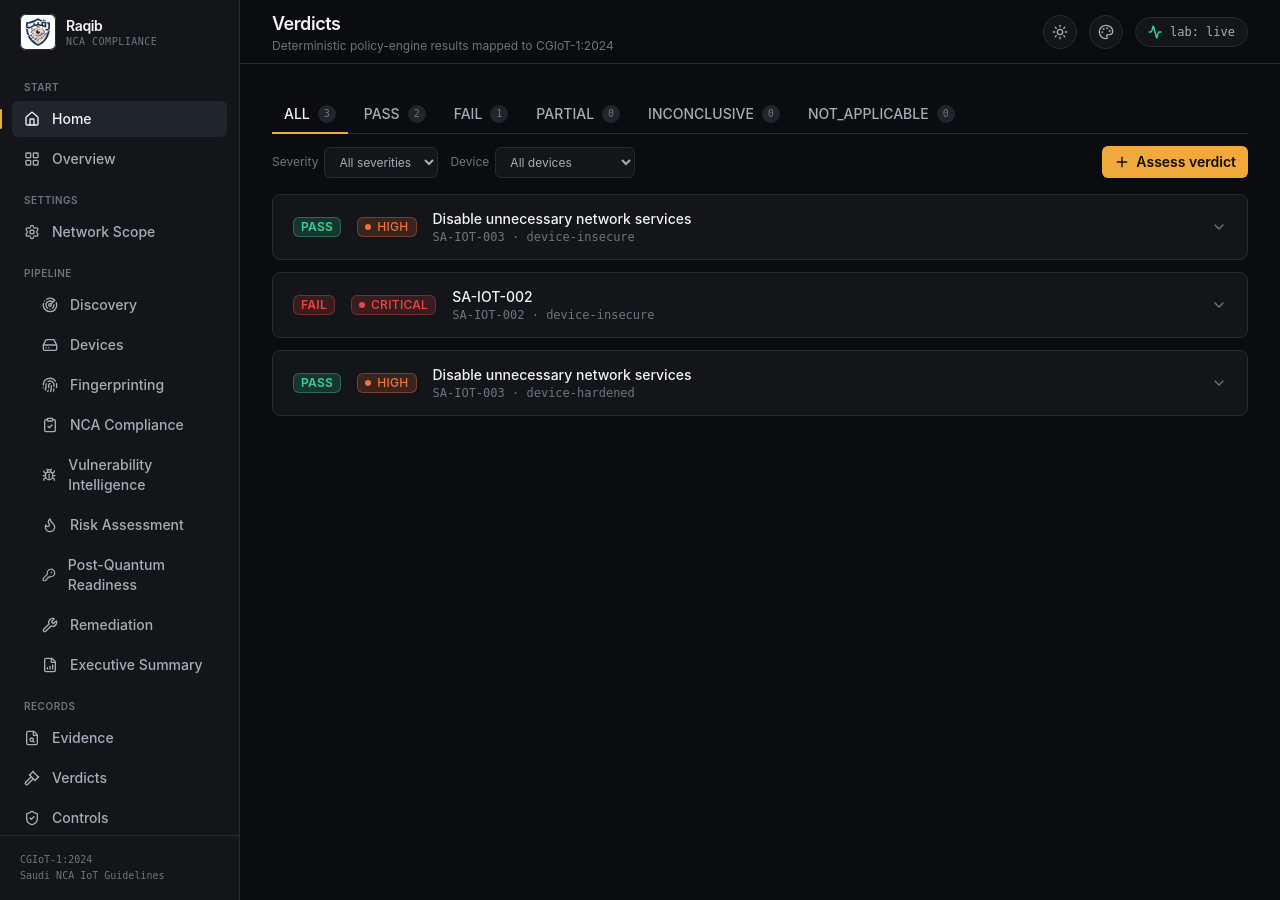
Scenario: VerdictsPage › filters verdicts by device
Select "device-hardened" in the dropdown named "Filter by device" at (565, 162), box [495,146,635,178]
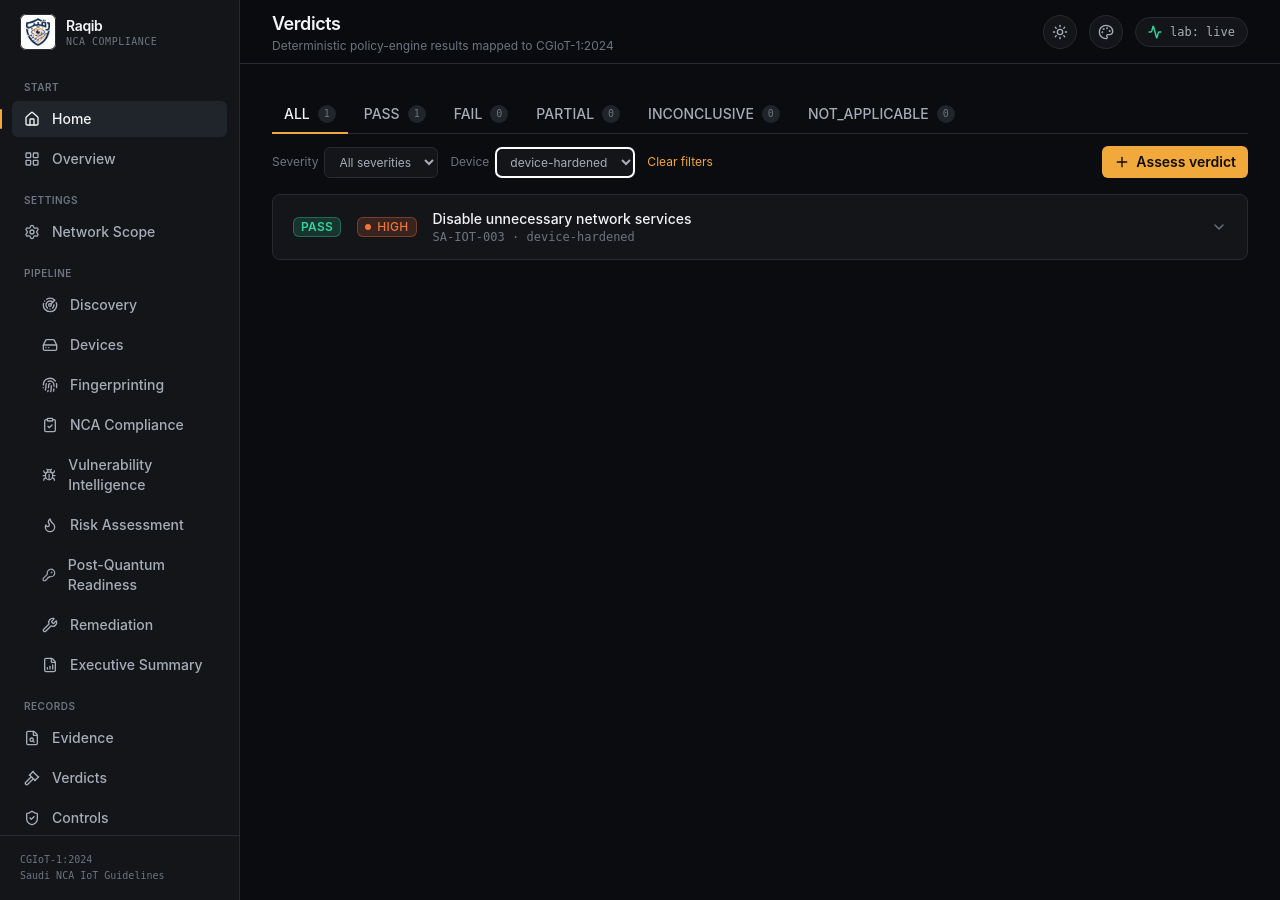
Expected: the button "SA-IOT-002" is gone
